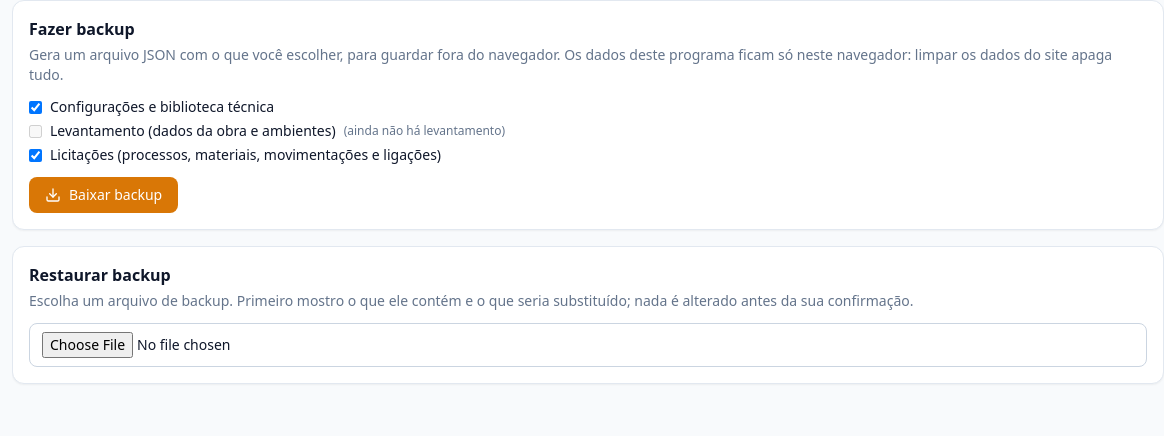
it: fazer backup › nada marcado: avisa e não baixa
Click the checkbox labelled "Configurações e biblioteca técnica" at (36, 107), box [29,100,42,114]
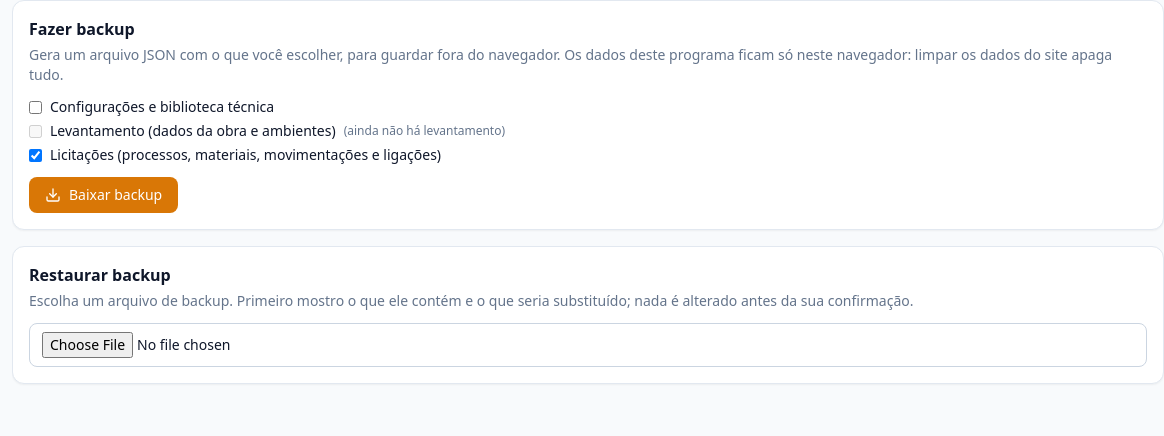
Click the checkbox labelled "Licitações (processos, materiais, movimentações e ligações)" at (36, 155), box [29,148,42,162]
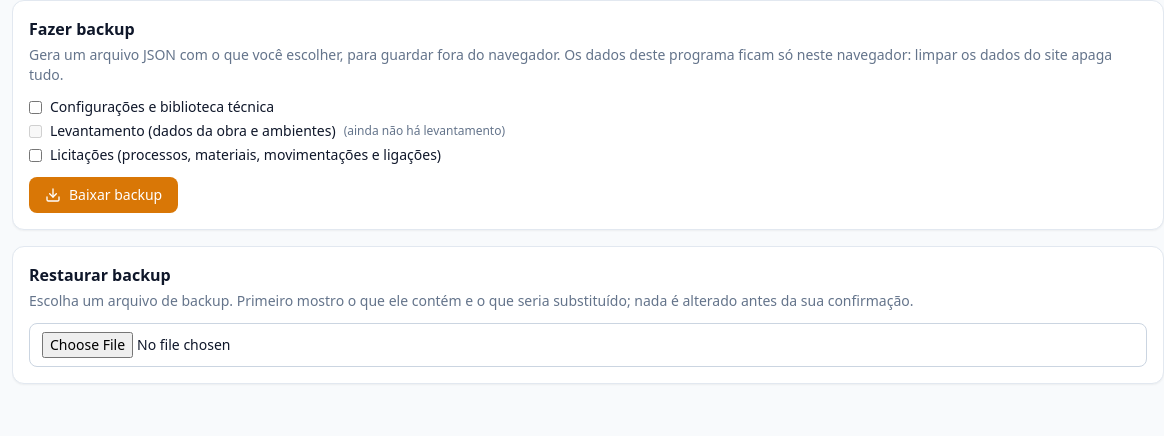
Click the button "Baixar backup" at (104, 195), box [29,177,178,213]
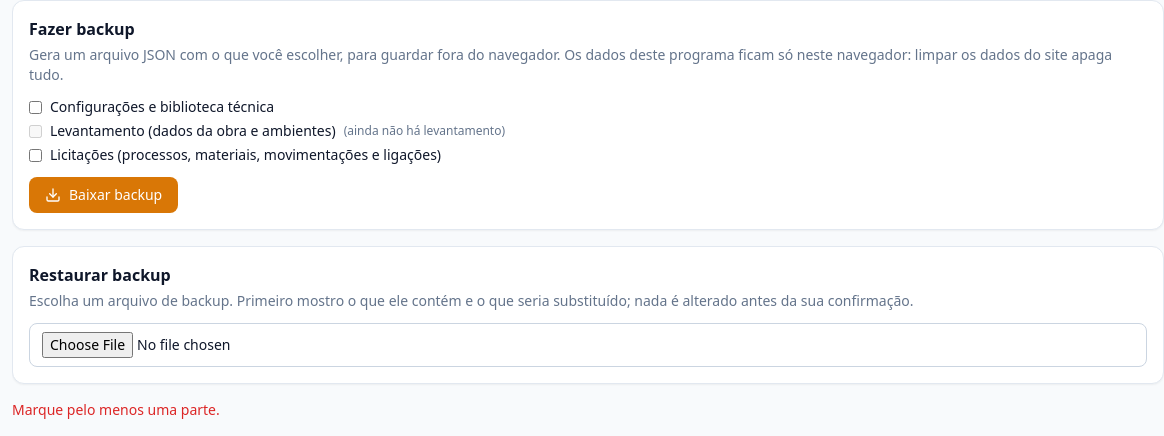
Now the message shows "pelo menos uma parte", box [12,400,220,419]
